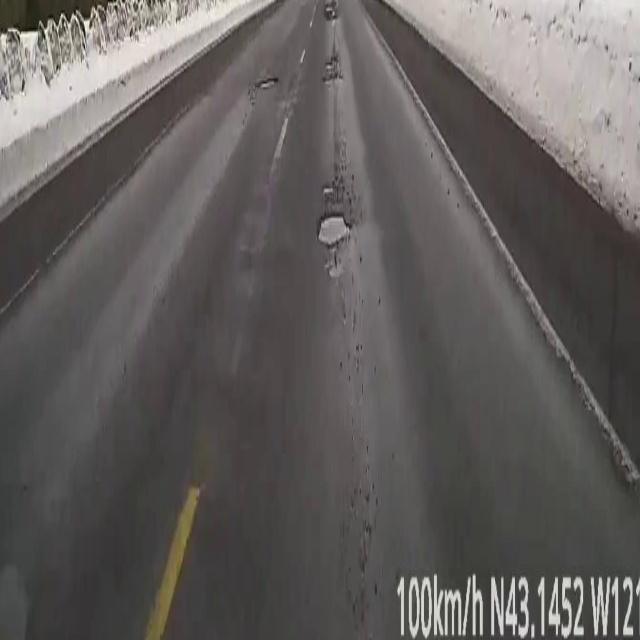pothole: (318, 183, 351, 267)
